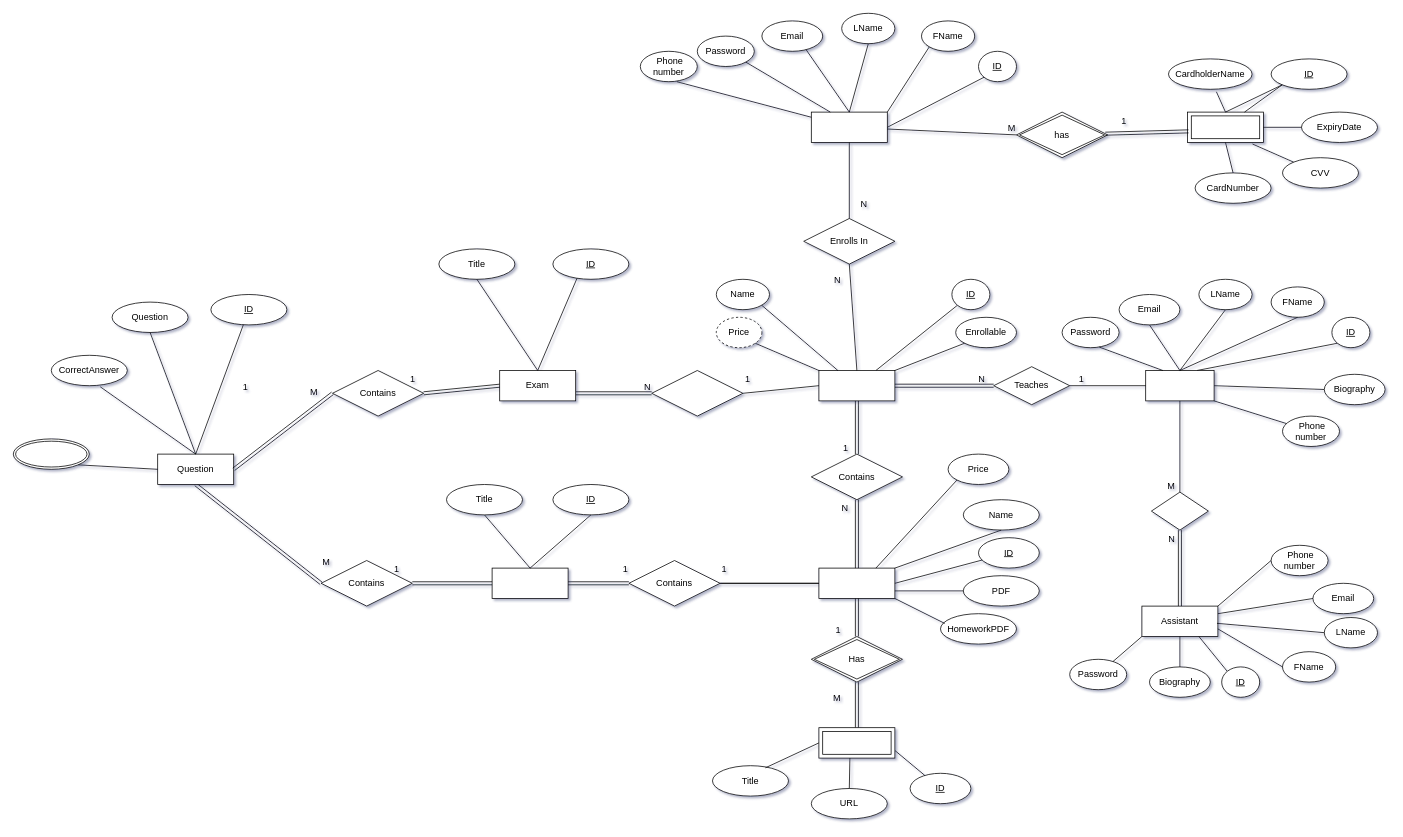
The diagram is 1403 pixels wide and 837 high, and some of its shapes have lost their labels. Each missing label, with the centre of its shape:
Card: point (1225, 126)
Choices: point (51, 453)
Class: point (856, 582)
Courses: point (856, 385)
have: point (697, 393)
Helps: point (1179, 510)
Quiz: point (529, 582)
Student: point (849, 126)
Teacher: point (1179, 385)
Video: point (856, 742)
